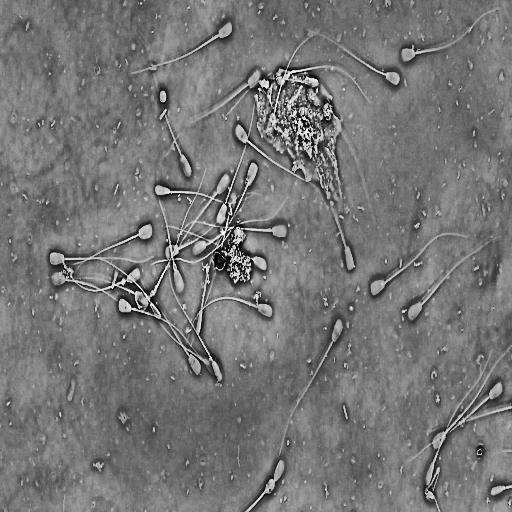dirt-particles: (249, 63, 351, 216), (211, 223, 254, 289), (423, 465, 442, 505), (262, 476, 279, 498), (157, 86, 168, 104)
normal: (160, 66, 264, 164), (276, 318, 345, 462), (406, 230, 510, 323), (429, 341, 512, 452), (409, 379, 506, 464), (214, 75, 265, 230), (168, 243, 223, 384), (368, 228, 477, 299), (127, 272, 201, 376), (164, 189, 260, 260), (303, 21, 402, 89), (233, 120, 320, 193), (399, 6, 502, 66), (148, 50, 194, 182), (131, 20, 233, 75), (73, 219, 157, 274), (186, 295, 273, 345), (156, 164, 186, 296), (51, 272, 137, 314), (62, 260, 141, 295), (152, 182, 256, 206), (178, 220, 289, 239), (48, 250, 155, 268)
proximal-droplet: (173, 263, 177, 271), (121, 279, 125, 286)
